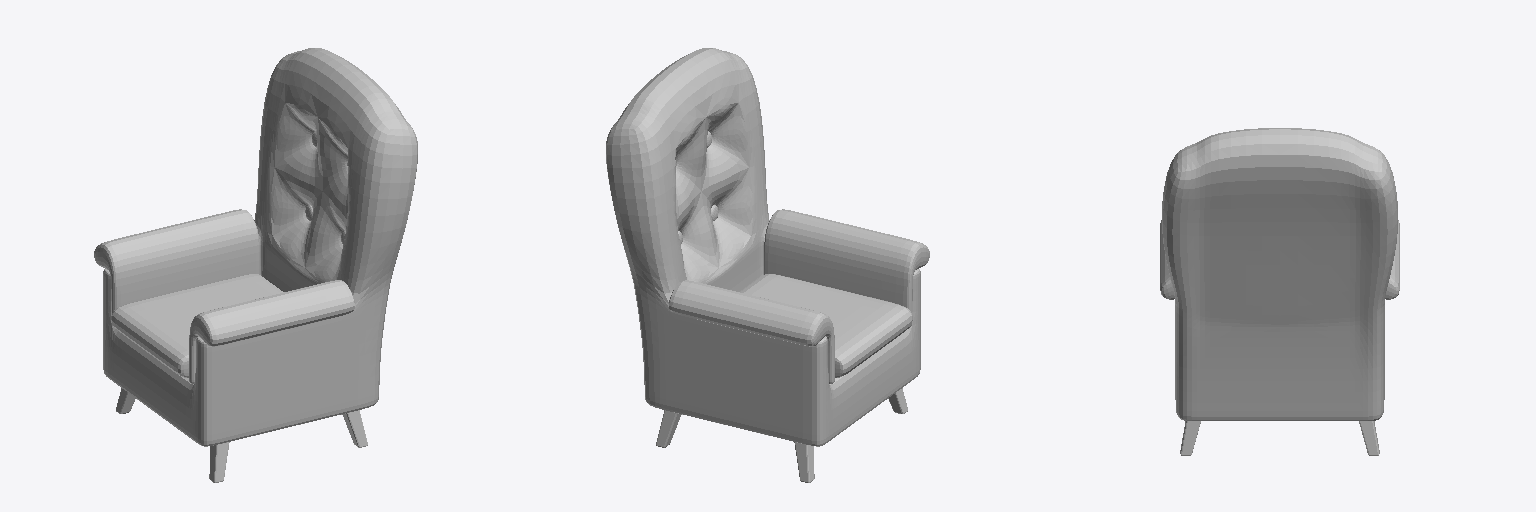
File: sofa.obj
3 views of the same model, side by side, from view 1: azimuth 30°, elevation 25°; view 2: azimuth 150°, elevation 25°; view 3: azimuth 270°, elevation 25° (orthographic).
Visible parts, largest first — view 1: Plane, Plane.002, Plane.001, Plane.003; view 2: Plane, Plane.002, Plane.001, Plane.003; view 3: Plane, Plane.002, Plane.003.
Part boxes in pixels (left/top/right/bottom): Plane: left=103, top=48, right=417, bottom=446; Plane.002: left=94, top=209, right=354, bottom=383; Plane.001: left=111, top=274, right=283, bottom=377; Plane.003: left=116, top=388, right=367, bottom=482; Plane: left=606, top=48, right=920, bottom=446; Plane.002: left=669, top=209, right=929, bottom=383; Plane.001: left=740, top=274, right=912, bottom=377; Plane.003: left=656, top=388, right=907, bottom=482; Plane: left=1162, top=128, right=1397, bottom=420; Plane.002: left=1160, top=220, right=1399, bottom=299; Plane.003: left=1180, top=421, right=1379, bottom=455.
Bounding box in the file's own units: 2.47 × 3.57 × 2.3.